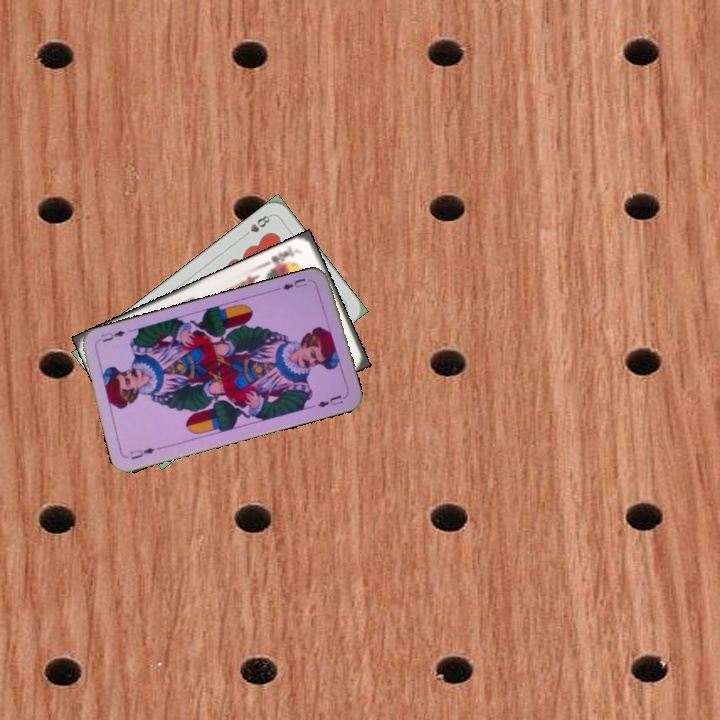EU: (126, 443, 165, 462), (274, 274, 309, 293)
H8: (239, 211, 274, 240)
SK: (265, 242, 302, 273)
